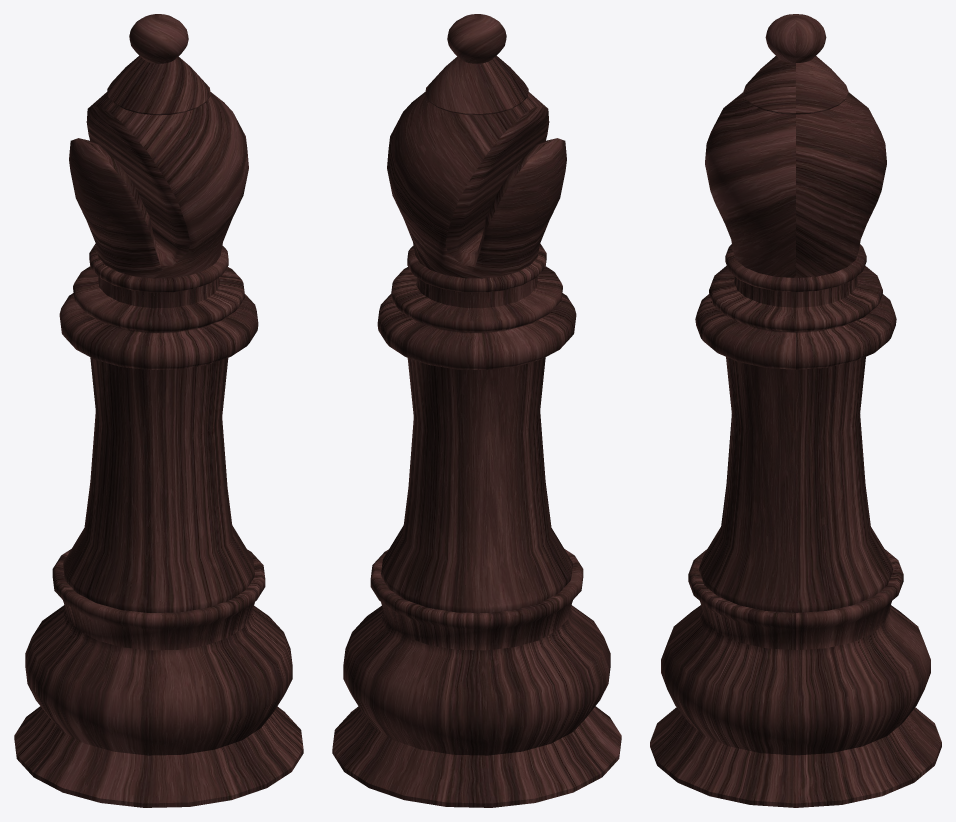
File: Black_Bishop.dae
3 views of the same model, side by side, from view 1: azimuth 30°, elevation 25°; view 2: azimuth 150°, elevation 25°; view 3: azimuth 270°, elevation 25° (orthographic).
Visible parts, largest first — view 1: Bishop; view 2: Bishop; view 3: Bishop.
Part boxes in pixels (x1,y1,x2,y2): Bishop: [14, 14, 303, 807]; Bishop: [332, 14, 621, 807]; Bishop: [650, 14, 941, 807].
Bounding box in the file's own units: 1.49 × 4.15 × 1.51.
1 material, 1 textured.
